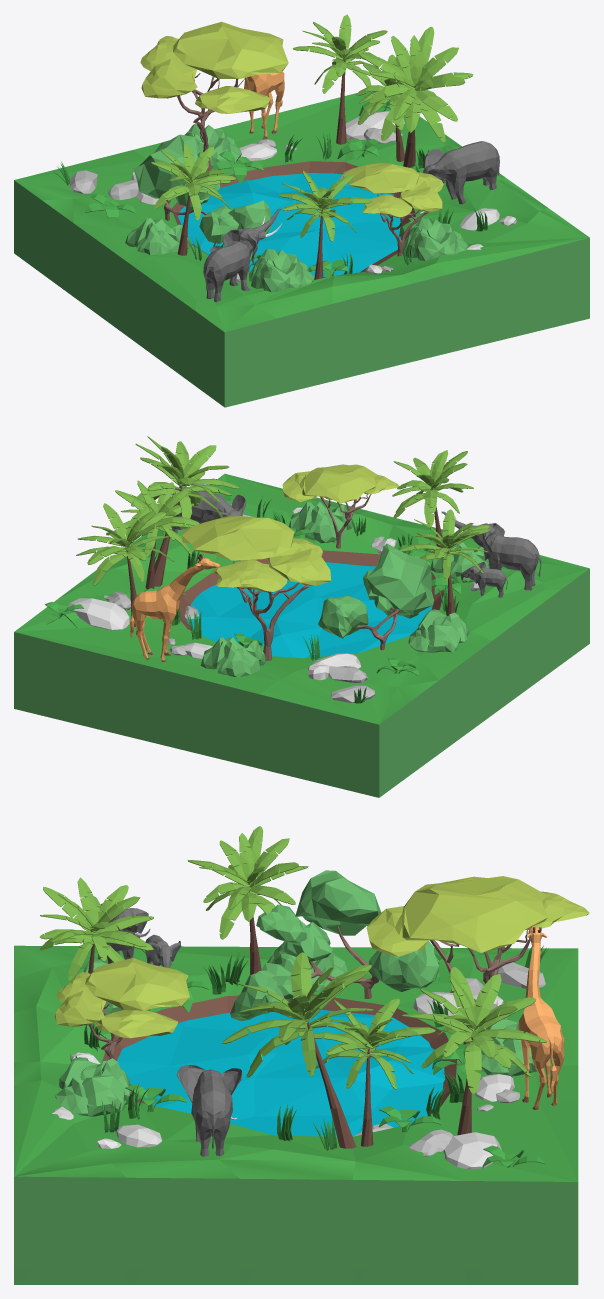
The model's file is ecosystem.gltf.
The picture shows the model from 3 angles, top to bottom: view 1: azimuth 30°, elevation 25°; view 2: azimuth 150°, elevation 25°; view 3: azimuth 270°, elevation 25°; orthographic projection. The views are drawn at different scales.
Visible parts, largest first — view 1: land_29023, land_29004, land_29024, land_29025, land_29043, land_29041, land_29049, land_29002, land_29044, land_29003, land_29048, land_29038 (+12 smaller); view 2: land_29023, land_29004, land_29024, land_29043, land_29025, land_29041, land_29049, land_29048, land_29052, land_29003, land_29026, land_29044 (+11 smaller); view 3: land_29023, land_29004, land_29024, land_29043, land_29041, land_29025, land_29049, land_29044, land_29048, land_29026, land_29052, land_29002 (+13 smaller).
Boxes of the visible parts, x1=… form: land_29023: x1=14, y1=90, x2=589, y2=407; land_29004: x1=178, y1=172, x2=400, y2=277; land_29024: x1=140, y1=21, x2=288, y2=176; land_29025: x1=359, y1=26, x2=473, y2=167; land_29043: x1=133, y1=134, x2=271, y2=243; land_29041: x1=343, y1=162, x2=443, y2=256; land_29049: x1=293, y1=14, x2=387, y2=144; land_29002: x1=420, y1=141, x2=499, y2=213; land_29044: x1=151, y1=144, x2=236, y2=255; land_29003: x1=203, y1=208, x2=281, y2=302; land_29048: x1=278, y1=170, x2=371, y2=279; land_29038: x1=249, y1=249, x2=314, y2=292; land_29023: x1=14, y1=473, x2=589, y2=797; land_29004: x1=186, y1=562, x2=432, y2=658; land_29024: x1=182, y1=515, x2=331, y2=660; land_29043: x1=318, y1=543, x2=433, y2=650; land_29025: x1=131, y1=436, x2=239, y2=586; land_29041: x1=282, y1=464, x2=399, y2=548; land_29049: x1=76, y1=503, x2=173, y2=626; land_29048: x1=392, y1=450, x2=473, y2=547; land_29052: x1=129, y1=554, x2=219, y2=661; land_29003: x1=441, y1=511, x2=541, y2=590; land_29026: x1=115, y1=480, x2=199, y2=589; land_29044: x1=399, y1=509, x2=489, y2=615; land_29023: x1=14, y1=945, x2=578, y2=1284; land_29004: x1=117, y1=1009, x2=444, y2=1136; land_29024: x1=366, y1=876, x2=589, y2=1044; land_29043: x1=230, y1=870, x2=439, y2=1021; land_29041: x1=54, y1=958, x2=189, y2=1059; land_29025: x1=222, y1=952, x2=373, y2=1148; land_29049: x1=401, y1=967, x2=547, y2=1135; land_29044: x1=187, y1=826, x2=308, y2=974; land_29048: x1=39, y1=877, x2=153, y2=980; land_29026: x1=313, y1=998, x2=435, y2=1146; land_29052: x1=518, y1=925, x2=564, y2=1109; land_29002: x1=176, y1=1065, x2=242, y2=1156.
Size of the model in its own units: 15 by 8.24 by 15.31.
2 materials, 2 textured.
